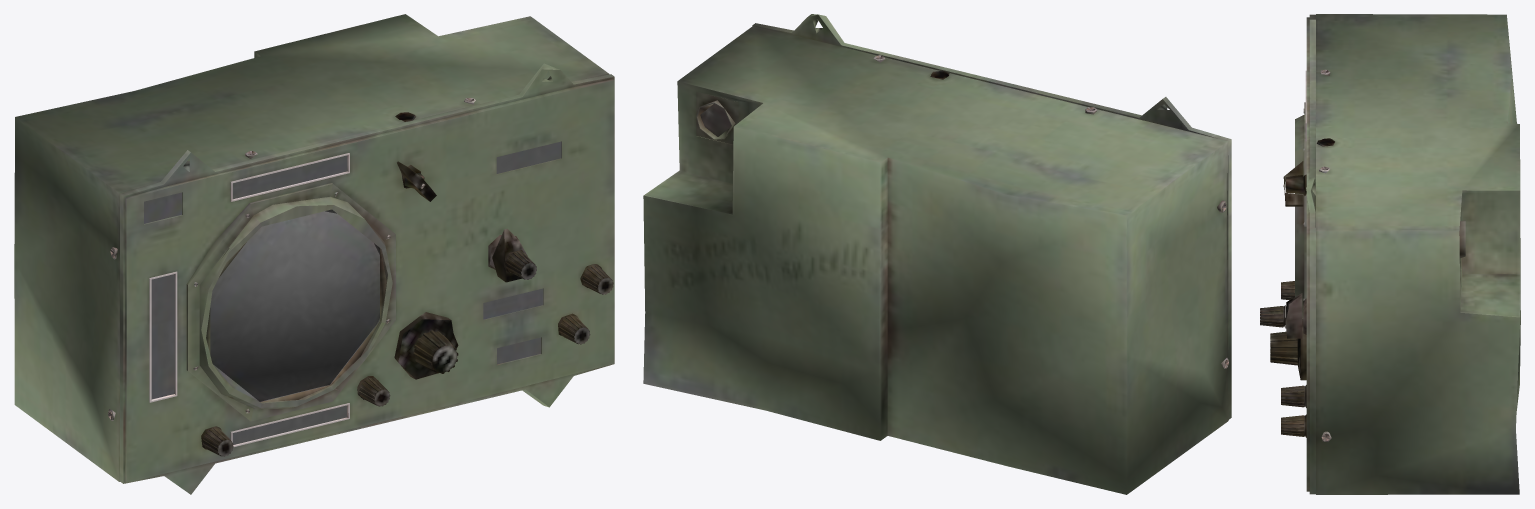
3 renders of one model, left to right at view 1: azimuth 30°, elevation 25°; view 2: azimuth 150°, elevation 25°; view 3: azimuth 270°, elevation 25°, orthographic. The views are drawn at different scales.
Visible parts, largest first — view 1: vintage_spacecraft_instrument; view 2: vintage_spacecraft_instrument; view 3: vintage_spacecraft_instrument.
Boxes of the visible parts, box(x1,y1,x2,y2) form: vintage_spacecraft_instrument: box(14, 14, 614, 494); vintage_spacecraft_instrument: box(643, 14, 1231, 494); vintage_spacecraft_instrument: box(1260, 14, 1520, 494).
Size of the model in its own units: 0.4089 by 0.2693 by 0.2042.
2 materials, 2 textured.
